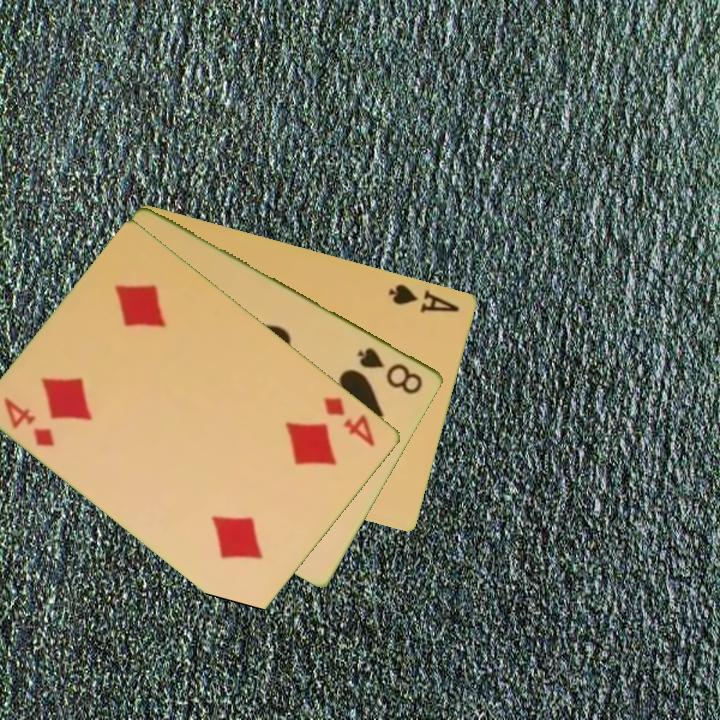4d: (320, 393, 379, 450), (1, 394, 59, 450)
8s: (354, 344, 427, 397)
As: (385, 280, 463, 316)
